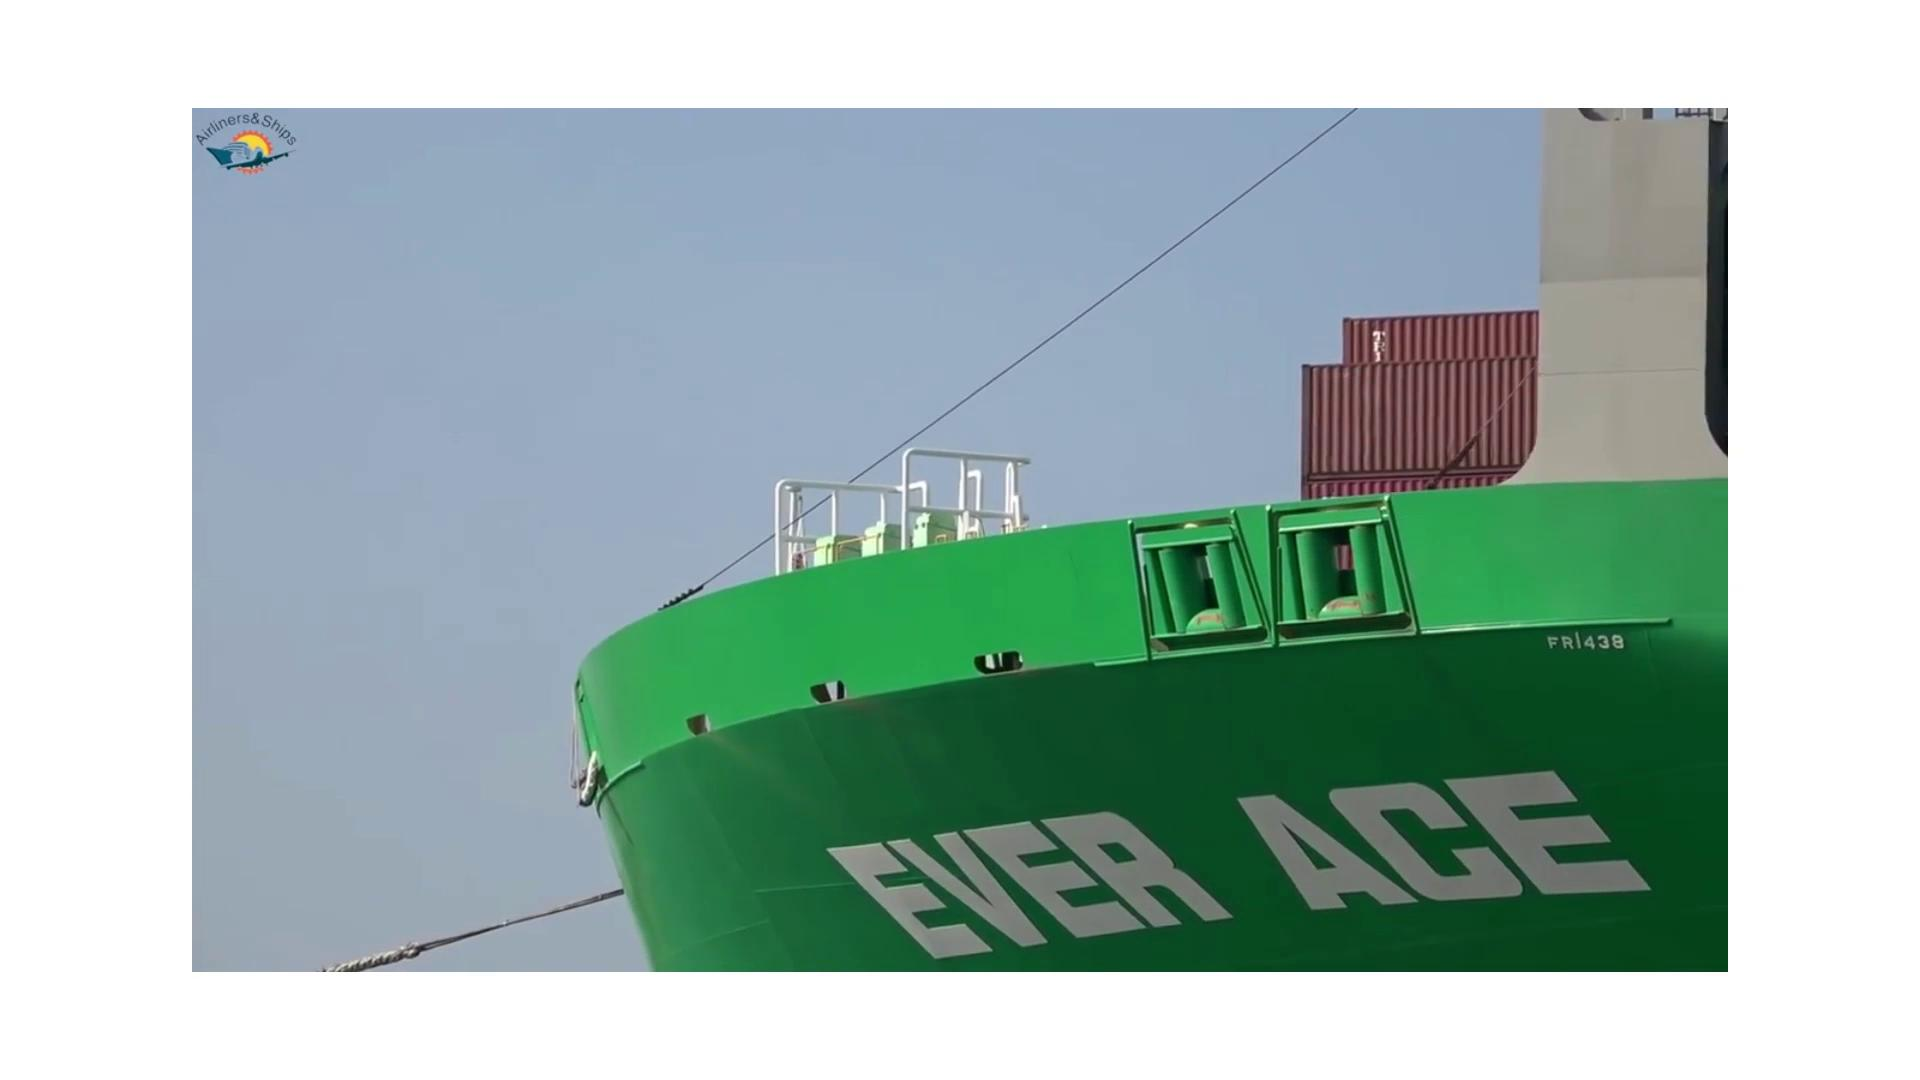OCR: (770, 769, 1671, 975)
